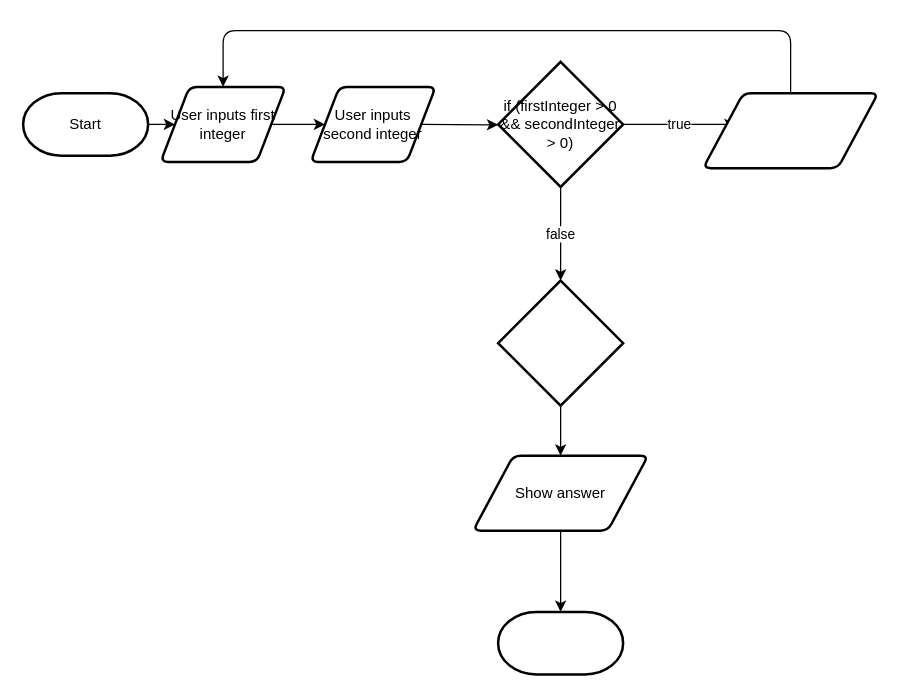
Some shapes in this 900 by 698 pixel diagram are drawn without their labels. The shapes that lost their labels are listed below. From the top down, each one's centre as x and y in pixels, then its label:
At [790,130]: "addedNumber = addedNumber + 1".
At [560,342]: "remainder = answer + secondInteger".
At [560,642]: "Stop".
